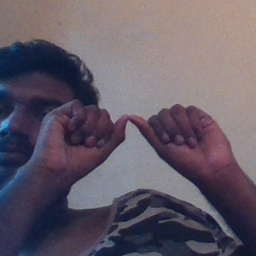A: (67, 96, 206, 189)
